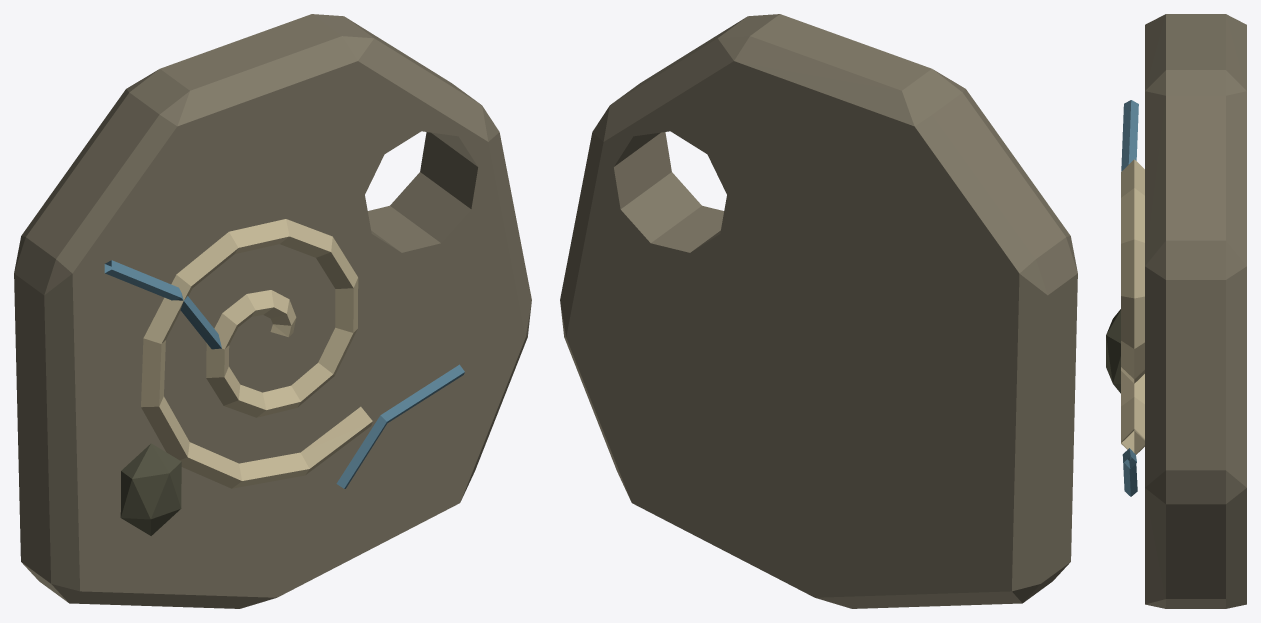
File: celestial_fossil.obj
3 renders of one model, left to right at view 1: azimuth 30°, elevation 25°; view 2: azimuth 150°, elevation 25°; view 3: azimuth 270°, elevation 25°, orthographic.
Parts seen in each view (by area): view 1: StoneSlab.001_rough_limestone, BoneSpiral.001_bone, EmbeddedNodule.001_oxidized_bronze, VeinA.001_crystal, VeinB.001_crystal; view 2: StoneSlab.001_rough_limestone; view 3: StoneSlab.001_rough_limestone, BoneSpiral.001_bone, VeinA.001_crystal, EmbeddedNodule.001_oxidized_bronze, VeinB.001_crystal.
Boxes of the visible parts, bbox=[...] form: StoneSlab.001_rough_limestone: bbox=[14, 14, 531, 608]; BoneSpiral.001_bone: bbox=[141, 219, 372, 488]; EmbeddedNodule.001_oxidized_bronze: bbox=[120, 443, 181, 535]; VeinA.001_crystal: bbox=[104, 260, 221, 349]; VeinB.001_crystal: bbox=[336, 364, 464, 488]; StoneSlab.001_rough_limestone: bbox=[560, 14, 1077, 608]; StoneSlab.001_rough_limestone: bbox=[1145, 14, 1246, 608]; BoneSpiral.001_bone: bbox=[1121, 159, 1144, 454]; VeinA.001_crystal: bbox=[1121, 100, 1138, 171]; EmbeddedNodule.001_oxidized_bronze: bbox=[1106, 309, 1120, 393]; VeinB.001_crystal: bbox=[1122, 448, 1137, 496].
Size of the model in its own units: 1.87 by 2 by 0.4695.
